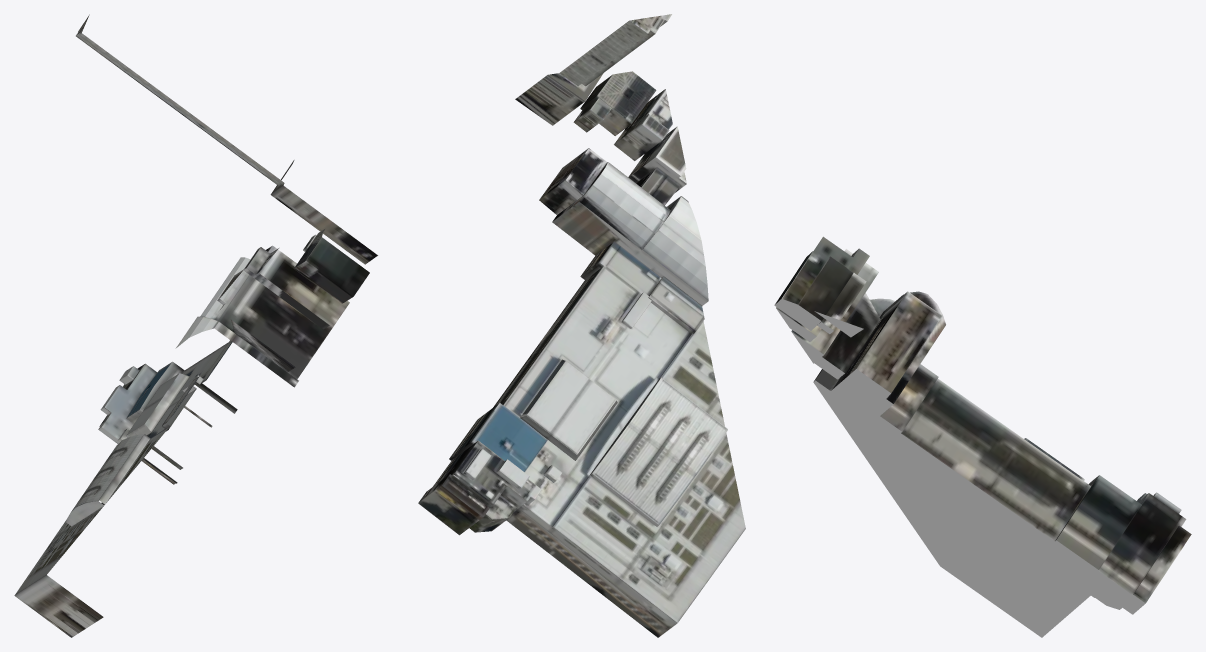
File: 39519_bldg_Building.glb
3 views of the same model, side by side, from view 1: azimuth 30°, elevation 25°; view 2: azimuth 150°, elevation 25°; view 3: azimuth 270°, elevation 25° (orthographic).
Size of the model in its own units: 78.28 by 160 by 97.34.
2 materials, 1 textured.
